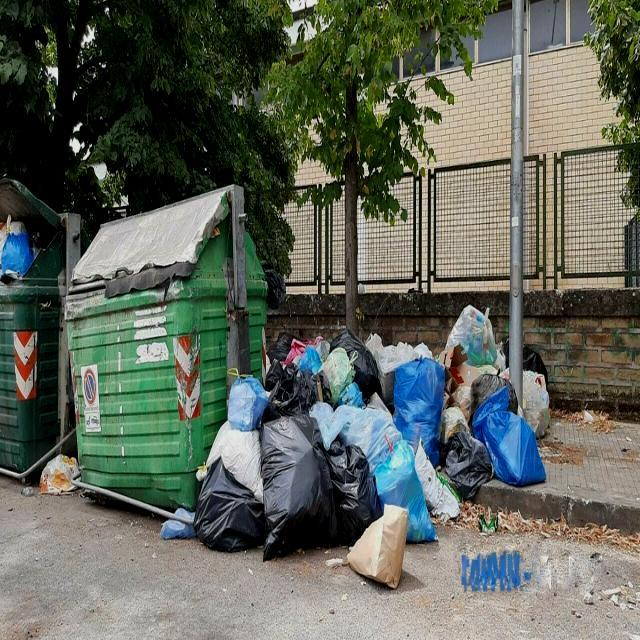high trash: (195, 308, 549, 587)
less trash: (39, 454, 80, 494)
